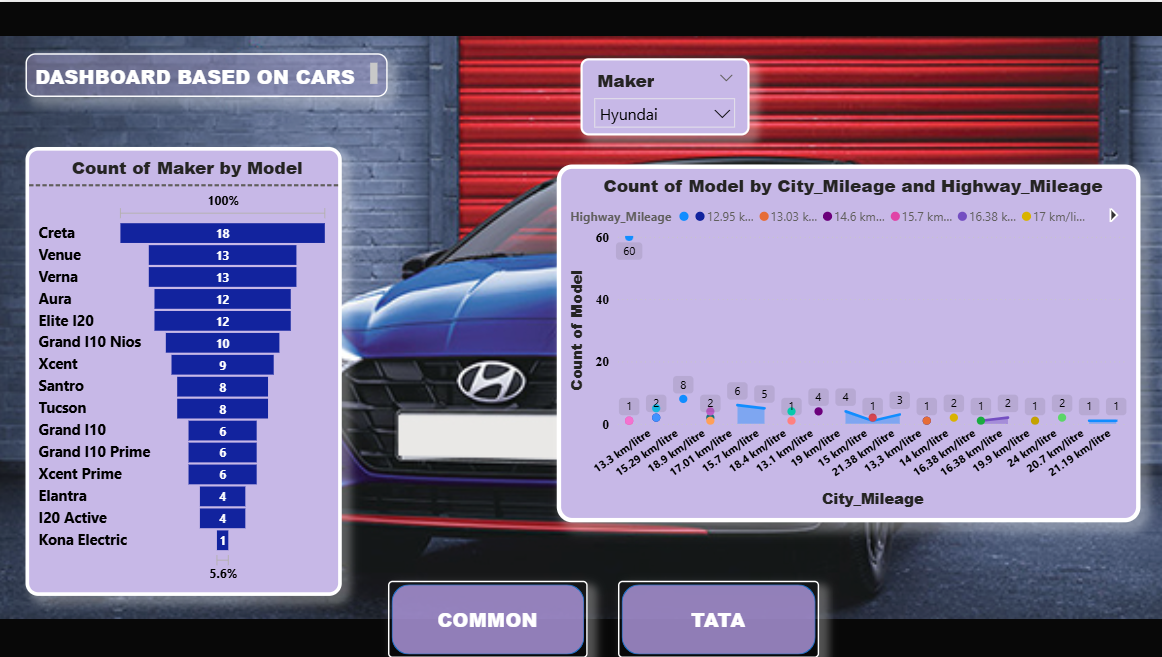

The dashboard page shown, as its layout file describes it:
{"tool":"powerbi","page":{"name":"HYUNDAI ","canvas":[1280,720],"ordinal":1},"visuals":[{"type":"slicer","fields":{"Values":["cars_ds_final.Maker"]},"box":[639.5,61.7,185.2,85.1],"z":0},{"type":"funnel","fields":{"Category":["cars_ds_final.Model"],"Y":["CountNonNull(cars_ds_final.Maker)"]},"box":[30.2,159.2,347.2,492.6],"z":1000},{"type":"lineChart","fields":{"Category":["cars_ds_final.City_Mileage"],"Series":["cars_ds_final.Highway_Mileage"],"Y":["CountNonNull(cars_ds_final.Model)"]},"box":[613.4,178.4,640.8,392.5],"z":2000},{"type":"textbox","box":[30.2,56.3,397.9,48],"z":3000},{"type":"shape","box":[428.1,635.3,219.6,85.1],"z":4000},{"type":"shape","box":[680.6,635.3,220.9,85.1],"z":5000}]}

Visuals, with their boxes in screenshot pixels (x1, y1, x2, y2), scaled from the page's 1280x720 canvas onto the 1162x657 screenshot:
slicer - cars_ds_final.Maker: locate(581, 56, 749, 134)
funnel - cars_ds_final.Model x CountNonNull(cars_ds_final.Maker): locate(27, 145, 343, 595)
lineChart - cars_ds_final.City_Mileage x cars_ds_final.Highway_Mileage: locate(557, 163, 1139, 521)
textbox: locate(27, 51, 389, 95)
shape: locate(389, 580, 588, 656)
shape: locate(618, 580, 818, 656)
